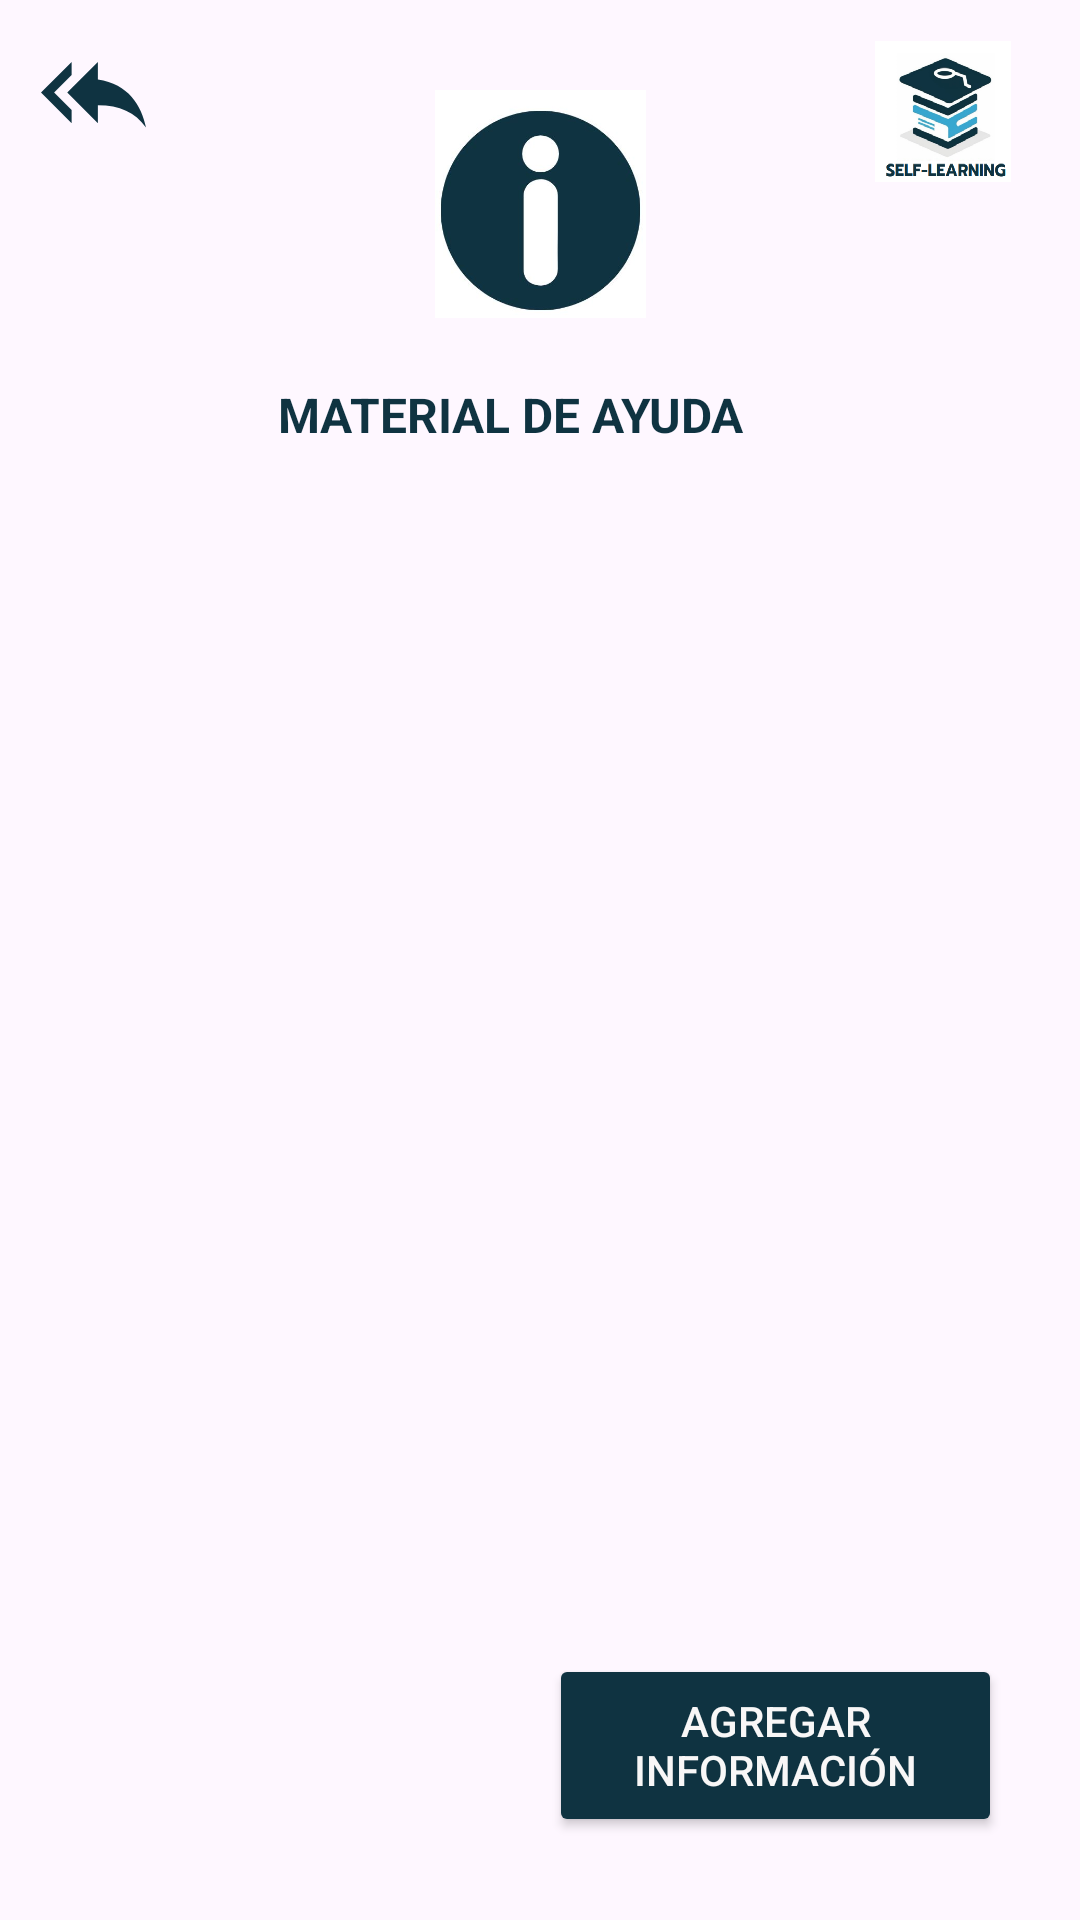

Icons on this 1080 x 1920 Android screen, each with the point to tap as (x=x, y=y):
backimage: (x=93, y=94)
info: (x=540, y=210)
